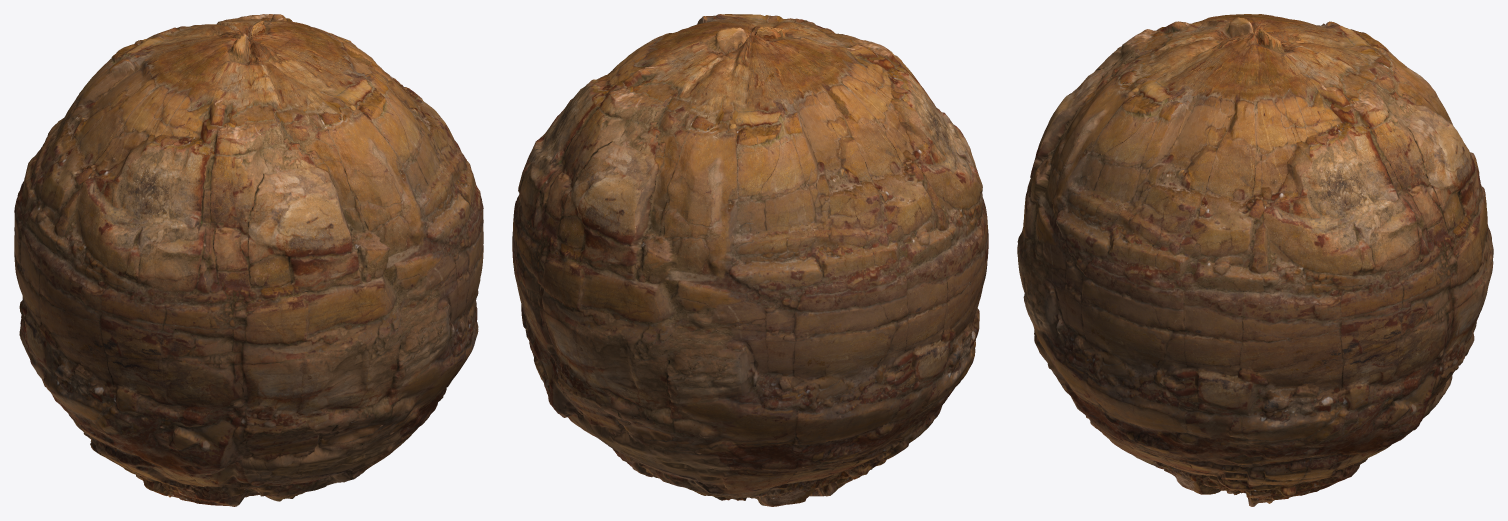
The model's file is cliff_side_2k.gltf.
The picture shows the model from 3 angles, left to right: view 1: azimuth 30°, elevation 25°; view 2: azimuth 150°, elevation 25°; view 3: azimuth 270°, elevation 25°; orthographic projection.
Parts seen in each view (by area): view 1: sphere_gltf; view 2: sphere_gltf; view 3: sphere_gltf.
Part boxes in pixels (box(x1,y1,x2,y2)): sphere_gltf: box(14, 14, 483, 506); sphere_gltf: box(512, 14, 988, 506); sphere_gltf: box(1017, 14, 1493, 506).
Bounding box in the file's own units: 1.83 × 1.97 × 1.87.
1 material, 1 textured.
